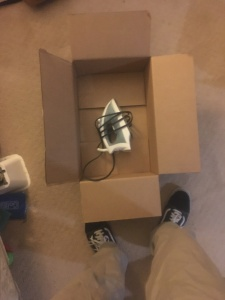innerbox: (74, 60, 156, 177)
outerbox: (39, 15, 199, 218)
product: (96, 100, 130, 154)
